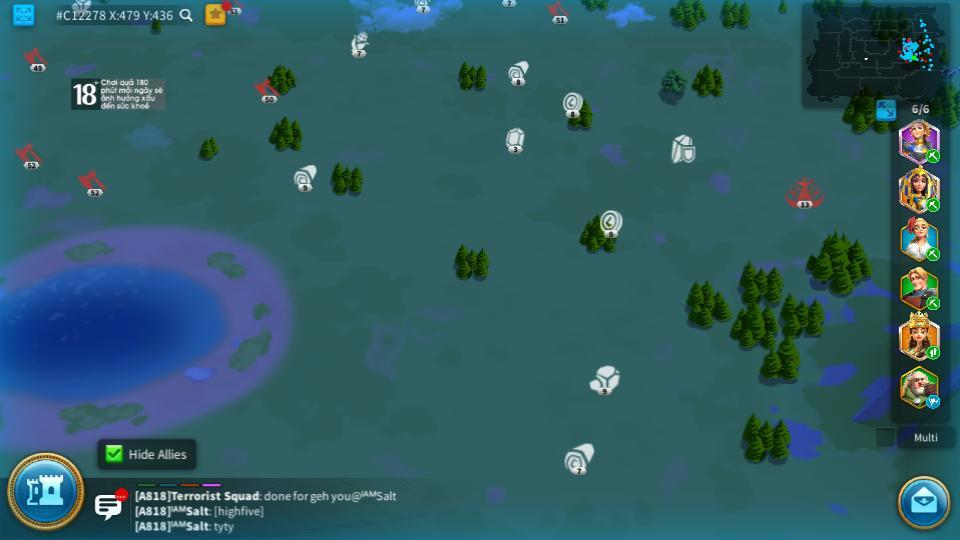gem-z-out: (593, 365, 618, 392), (504, 128, 526, 151)
march_farming: (923, 197, 940, 212), (925, 149, 941, 162), (924, 249, 939, 261), (925, 297, 941, 308)
march_idle: (925, 394, 942, 408)
march_marching: (925, 347, 941, 359)
